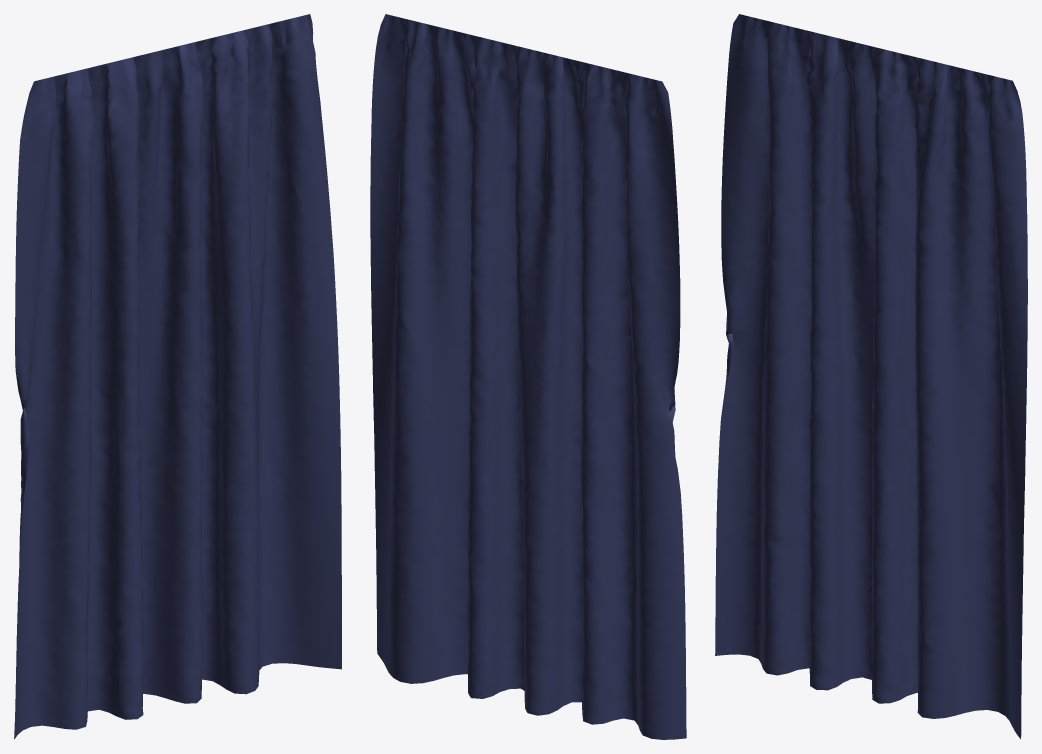
The model's file is cortinacerrada.obj.
The picture shows the model from 3 angles, left to right: view 1: azimuth 30°, elevation 25°; view 2: azimuth 150°, elevation 25°; view 3: azimuth 330°, elevation 25°; orthographic projection.
Bounding box in the file's own units: 1.53 × 2.98 × 0.2247.
